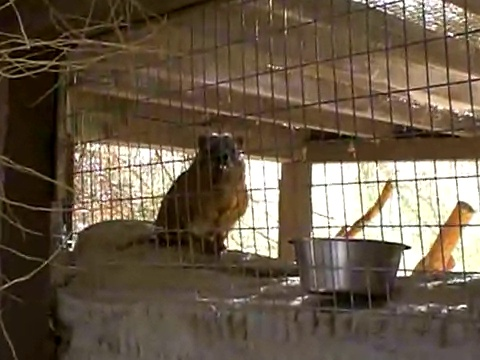Rock Hyrex: (160, 130, 251, 267)
